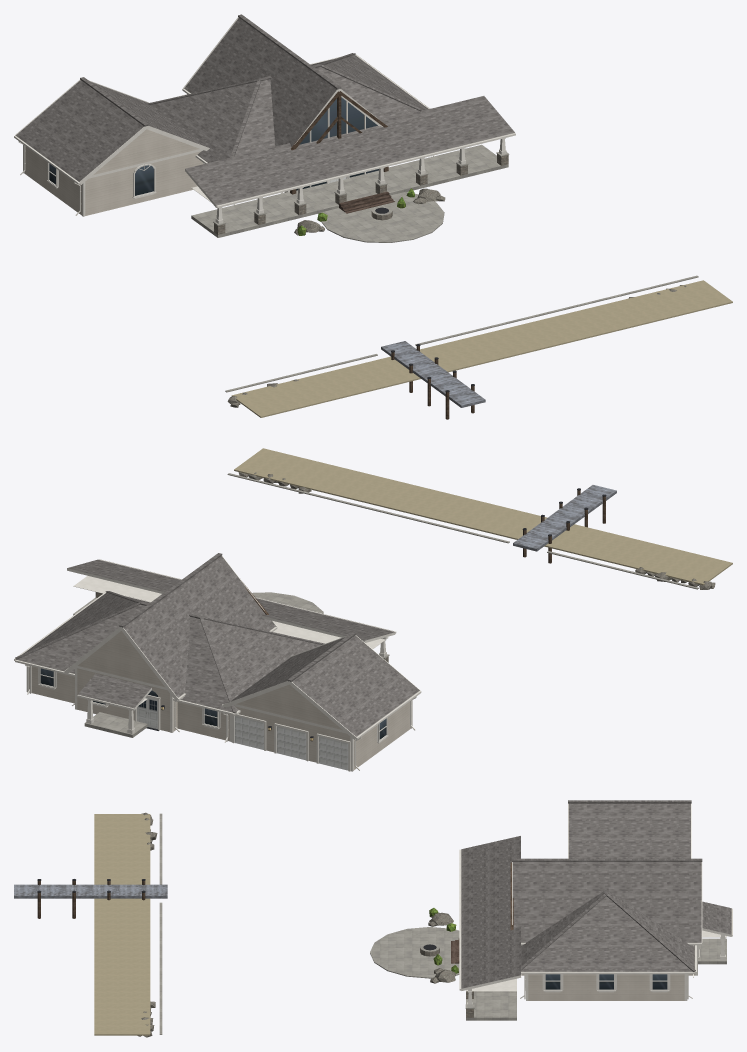
Rendered from lot-8415.fbx.
3 renders of one model, top to bottom at view 1: azimuth 30°, elevation 25°; view 2: azimuth 150°, elevation 25°; view 3: azimuth 270°, elevation 25°, orthographic. The views are drawn at different scales.
Parts seen in each view (by area): view 1: lot-8415_LOD0; view 2: lot-8415_LOD0; view 3: lot-8415_LOD0.
Boxes of the visible parts, <box> form: lot-8415_LOD0: <box>14,14,732,419</box>; lot-8415_LOD0: <box>14,448,732,771</box>; lot-8415_LOD0: <box>14,800,732,1037</box>.
Size of what is drawn, in the model's own units: 39.49 by 9.2 by 53.77.
Materials: 2 (2 with a texture image).
